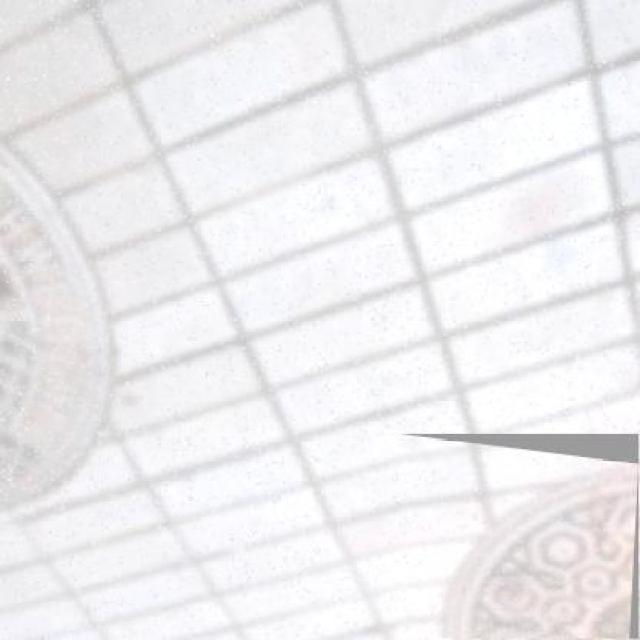Manhole: (0, 116, 123, 554), (398, 434, 638, 638)
